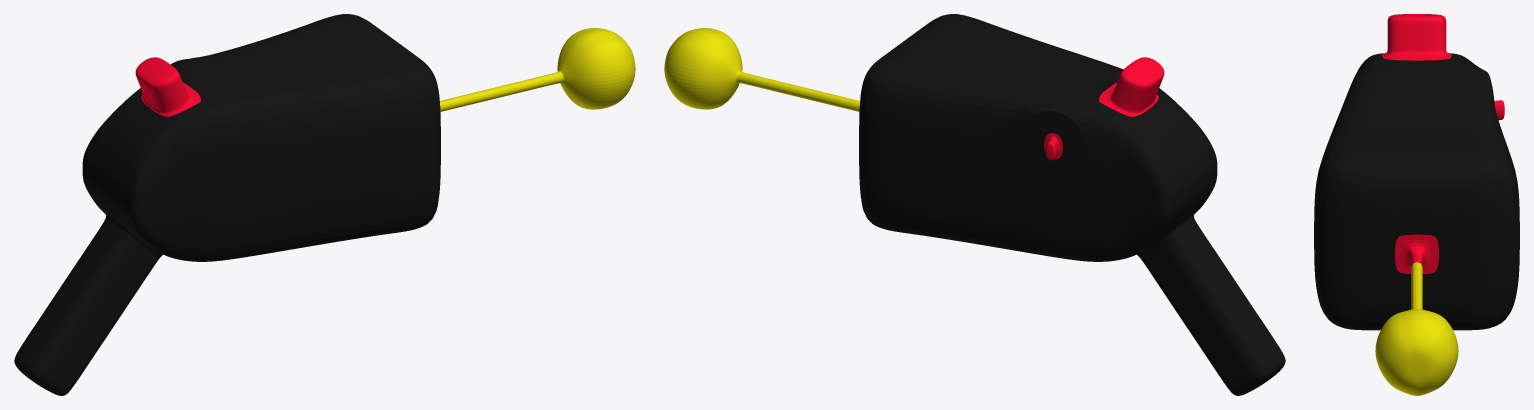
The model's file is blaster.fbx.
3 renders of one model, left to right at view 1: azimuth 30°, elevation 25°; view 2: azimuth 150°, elevation 25°; view 3: azimuth 270°, elevation 25°, orthographic. The views are drawn at different scales.
Visible parts, largest first — view 1: Cube; view 2: Cube; view 3: Cube.
Part boxes in pixels (left/top/right/bottom): Cube: left=14, top=14, right=635, bottom=395; Cube: left=664, top=14, right=1285, bottom=395; Cube: left=1314, top=14, right=1519, bottom=395.
Bounding box in the file's own units: 551 × 260 × 155.
